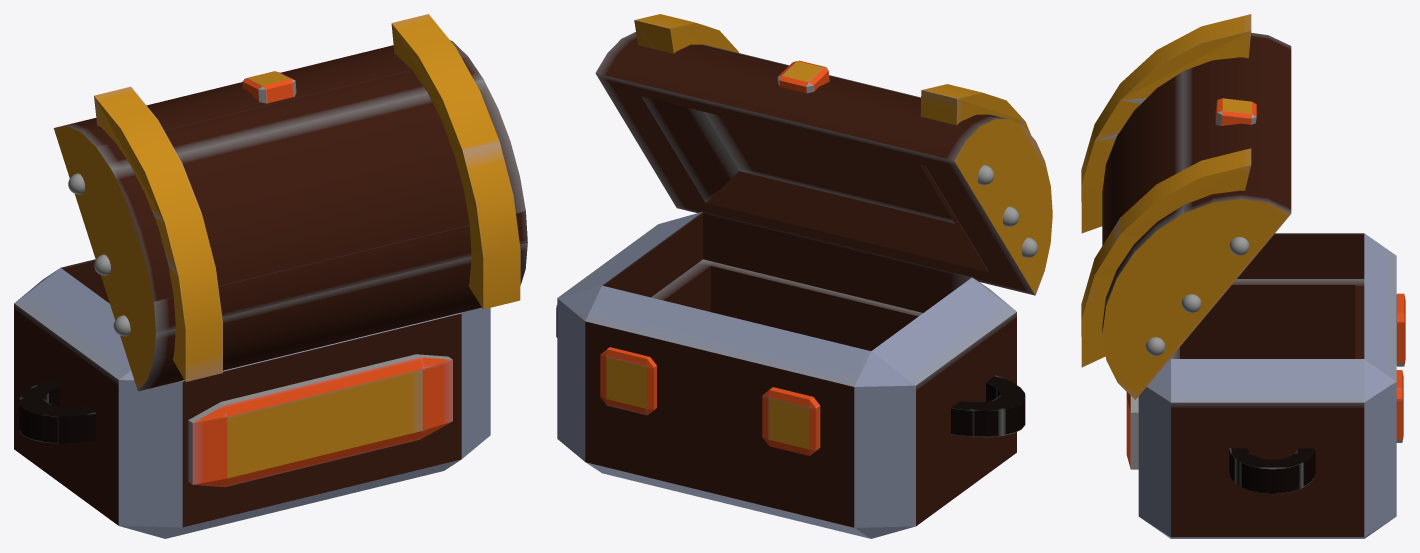
Rendered from Chest ready to paint.obj.
The picture shows the model from 3 angles, left to right: view 1: azimuth 30°, elevation 25°; view 2: azimuth 150°, elevation 25°; view 3: azimuth 270°, elevation 25°; orthographic projection. The views are drawn at different scales.
Parts seen in each view (by area): view 1: arc_Mesh_arc_Instance.006, block_bevel_Mesh_block_bevel_Instance.130, block_bevel.004_Mesh_block_bevel_Instance.134, cylinderHollow_quarter_Mesh_cylinderHollow_quarter_Instance.018, cylinderHollow_quarter.001_Mesh_cylinderHollow_quarter_Instance., cylinderHollow_half_Mesh_cylinderHollow_half_Instance.024, block_bevel.001_Mesh_block_bevel_Instance.131; view 2: block_bevel_Mesh_block_bevel_Instance.130, arc_Mesh_arc_Instance.006, block_bevel.003_Mesh_block_bevel_Instance.133, cylinderHollow_half_Mesh_cylinderHollow_half_Instance.024, block_bevel.002_Mesh_block_bevel_Instance.132, cylinderHollow_quarter.001_Mesh_cylinderHollow_quarter_Instance., cylinderHollow_quarter_Mesh_cylinderHollow_quarter_Instance.018, block_bevel.001_Mesh_block_bevel_Instance.131; view 3: block_bevel_Mesh_block_bevel_Instance.130, arc_Mesh_arc_Instance.006, cylinderHollow_quarter.001_Mesh_cylinderHollow_quarter_Instance., cylinderHollow_quarter_Mesh_cylinderHollow_quarter_Instance.018, cylinderHollow_half.001_Mesh_cylinderHollow_half_Instance.025, block_bevel.001_Mesh_block_bevel_Instance.131, block_bevel.004_Mesh_block_bevel_Instance.134, block_bevel.003_Mesh_block_bevel_Instance.133, block_bevel.002_Mesh_block_bevel_Instance.132.
Boxes of the visible parts, box(x1,y1,x2,y2) form: arc_Mesh_arc_Instance.006: box(53, 40, 527, 391); block_bevel_Mesh_block_bevel_Instance.130: box(14, 259, 490, 538); block_bevel.004_Mesh_block_bevel_Instance.134: box(188, 354, 452, 487); cylinderHollow_quarter_Mesh_cylinderHollow_quarter_Instance.018: box(391, 14, 520, 309); cylinderHollow_quarter.001_Mesh_cylinderHollow_quarter_Instance.: box(94, 86, 222, 381); cylinderHollow_half_Mesh_cylinderHollow_half_Instance.024: box(19, 379, 96, 443); block_bevel.001_Mesh_block_bevel_Instance.131: box(242, 71, 296, 103); block_bevel_Mesh_block_bevel_Instance.130: box(557, 211, 1016, 538); arc_Mesh_arc_Instance.006: box(595, 32, 1052, 295); block_bevel.003_Mesh_block_bevel_Instance.133: box(762, 387, 820, 455); cylinderHollow_half_Mesh_cylinderHollow_half_Instance.024: box(951, 375, 1025, 437); block_bevel.002_Mesh_block_bevel_Instance.132: box(600, 347, 656, 415); cylinderHollow_quarter.001_Mesh_cylinderHollow_quarter_Instance.: box(920, 84, 1030, 134); cylinderHollow_quarter_Mesh_cylinderHollow_quarter_Instance.018: box(634, 14, 738, 53); block_bevel.001_Mesh_block_bevel_Instance.131: box(777, 60, 829, 93); block_bevel_Mesh_block_bevel_Instance.130: box(1138, 233, 1396, 538); arc_Mesh_arc_Instance.006: box(1102, 32, 1291, 399); cylinderHollow_quarter.001_Mesh_cylinderHollow_quarter_Instance.: box(1081, 14, 1251, 233); cylinderHollow_quarter_Mesh_cylinderHollow_quarter_Instance.018: box(1081, 148, 1251, 367); cylinderHollow_half.001_Mesh_cylinderHollow_half_Instance.025: box(1229, 448, 1315, 494); block_bevel.001_Mesh_block_bevel_Instance.131: box(1215, 98, 1256, 125); block_bevel.004_Mesh_block_bevel_Instance.134: box(1126, 392, 1138, 469); block_bevel.003_Mesh_block_bevel_Instance.133: box(1396, 293, 1405, 366); block_bevel.002_Mesh_block_bevel_Instance.132: box(1396, 370, 1403, 442).
Size of the model in its own units: 2.51 by 2.15 by 1.63.
Materials: 1 (1 with a texture image).
